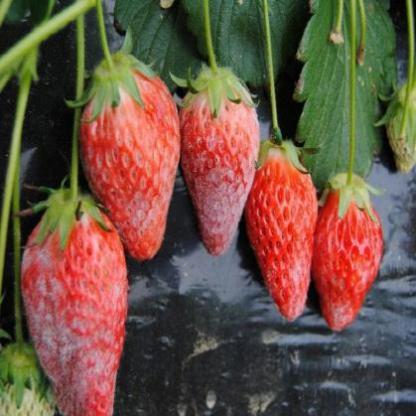Strawberry_Powdery_Mildew_Fruit: (19, 189, 129, 415), (77, 55, 180, 262), (176, 66, 261, 258), (310, 231, 378, 334), (254, 230, 316, 322)
